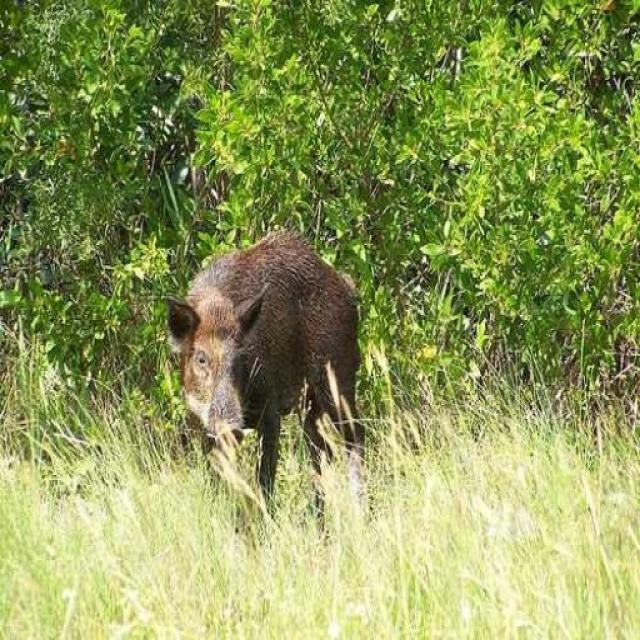pig: (166, 225, 414, 542)
